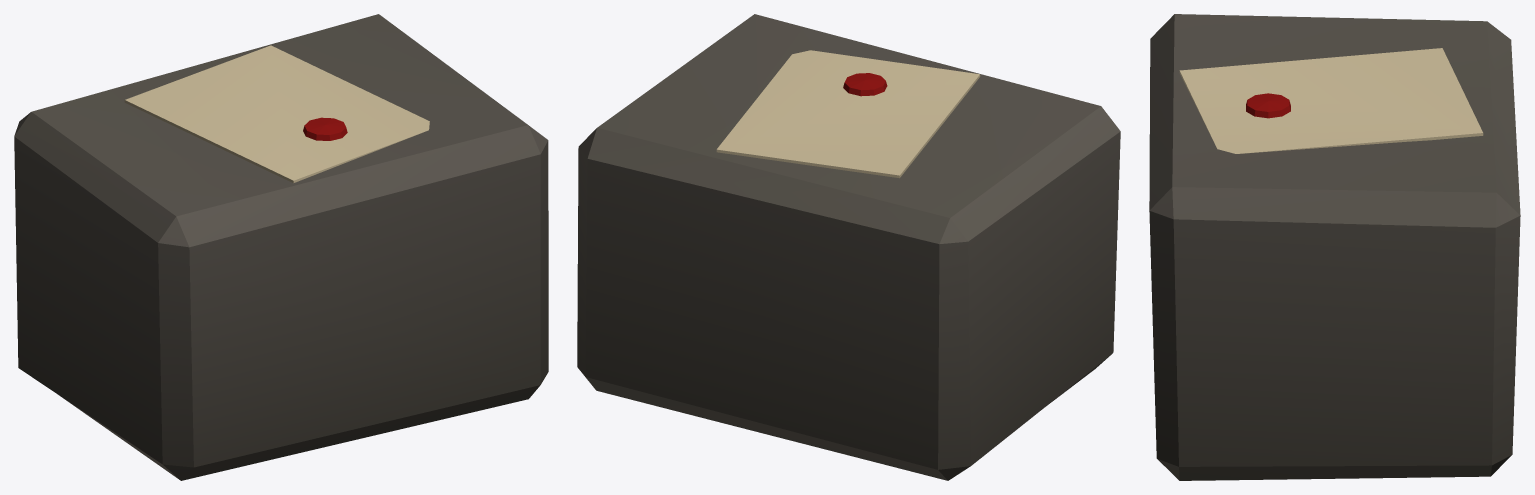
File: clue-cat-ledger-seal.glb
3 renders of one model, left to right at view 1: azimuth 30°, elevation 25°; view 2: azimuth 150°, elevation 25°; view 3: azimuth 270°, elevation 25°, orthographic. The views are drawn at different scales.
Parts seen in each view (by area): view 1: clue-cat-ledger-seal-stone, clue-cat-ledger-seal-paper, clue-cat-ledger-seal-seal; view 2: clue-cat-ledger-seal-stone, clue-cat-ledger-seal-paper, clue-cat-ledger-seal-seal; view 3: clue-cat-ledger-seal-stone, clue-cat-ledger-seal-paper, clue-cat-ledger-seal-seal.
Boxes of the visible parts, bbox=[...] form: clue-cat-ledger-seal-stone: bbox=[14, 14, 548, 480]; clue-cat-ledger-seal-paper: bbox=[124, 45, 429, 183]; clue-cat-ledger-seal-seal: bbox=[303, 117, 347, 140]; clue-cat-ledger-seal-stone: bbox=[577, 14, 1120, 480]; clue-cat-ledger-seal-paper: bbox=[716, 50, 980, 178]; clue-cat-ledger-seal-seal: bbox=[843, 73, 887, 96]; clue-cat-ledger-seal-stone: bbox=[1149, 14, 1520, 480]; clue-cat-ledger-seal-paper: bbox=[1179, 48, 1483, 153]; clue-cat-ledger-seal-seal: bbox=[1246, 93, 1290, 118].
Size of the model in its own units: 0.6107 by 0.4212 by 0.4704.
